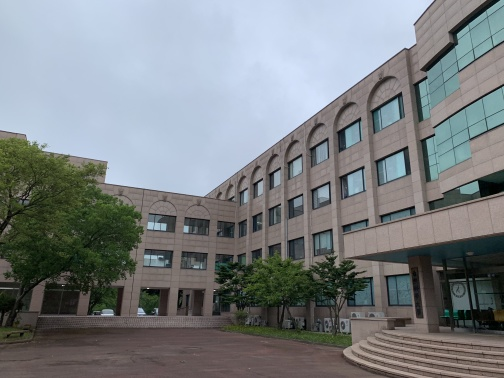Natural Science2: (229, 9, 504, 365)
